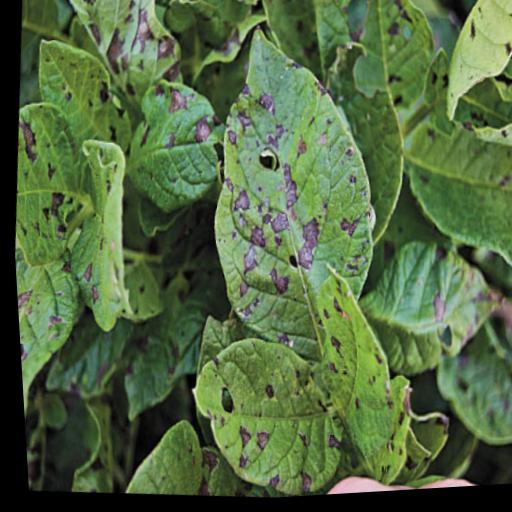Early Blight: (188, 15, 398, 367), (298, 258, 419, 496), (175, 329, 344, 497), (12, 258, 87, 494), (5, 93, 101, 270), (57, 131, 137, 338), (109, 80, 226, 221), (48, 0, 190, 96)
